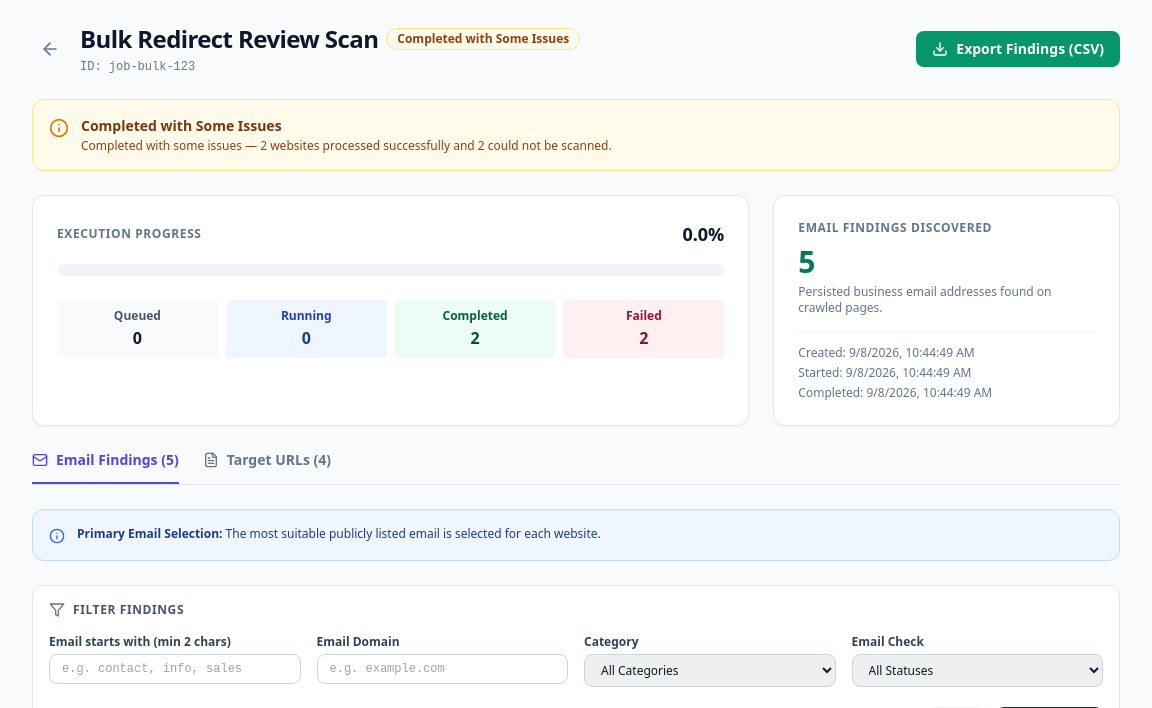
Scenario: Bulk Redirect Review Web UI › renders row checkboxes only for rows requiring redirect approval
Expected: the text "Target URLs (4)" is shown, [227,450,331,470]
Click the button "Target URLs (4)".
click(267, 467)  # box [203,450,331,484]
(page scrolled)
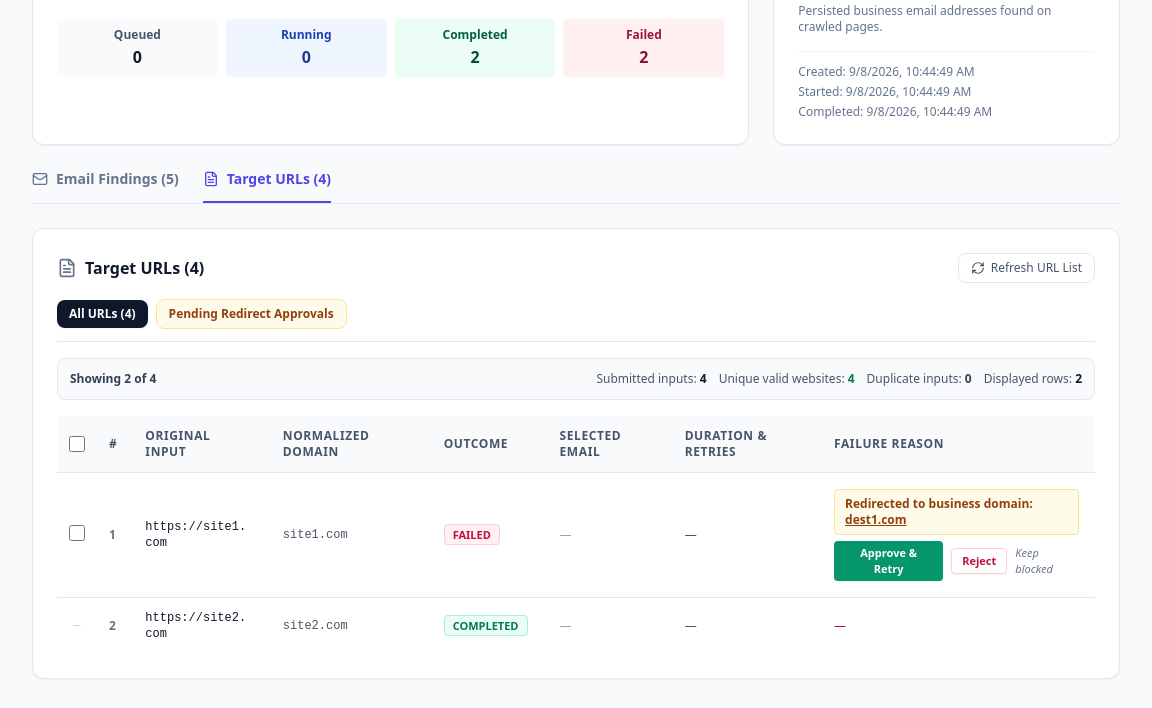
Now the checkbox named "Select redirect for site1.com" is shown, box [69,524,85,540]
